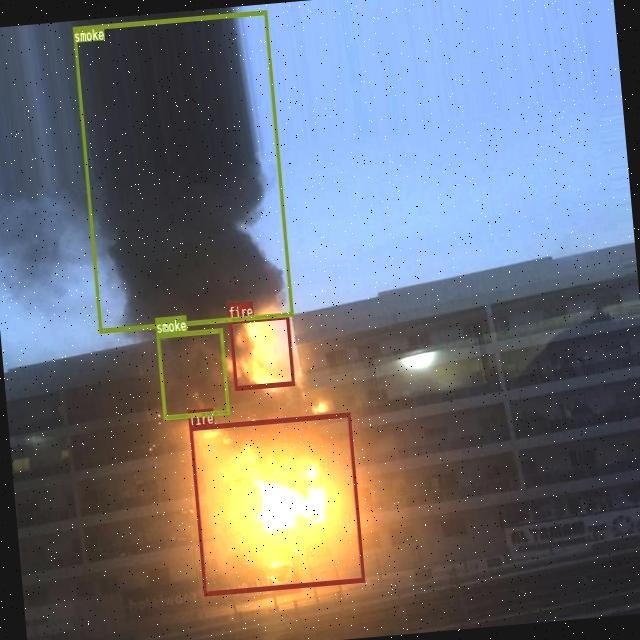fire: (189, 412, 364, 594), (228, 314, 294, 389)
smoke: (72, 9, 292, 332), (156, 328, 228, 418)
